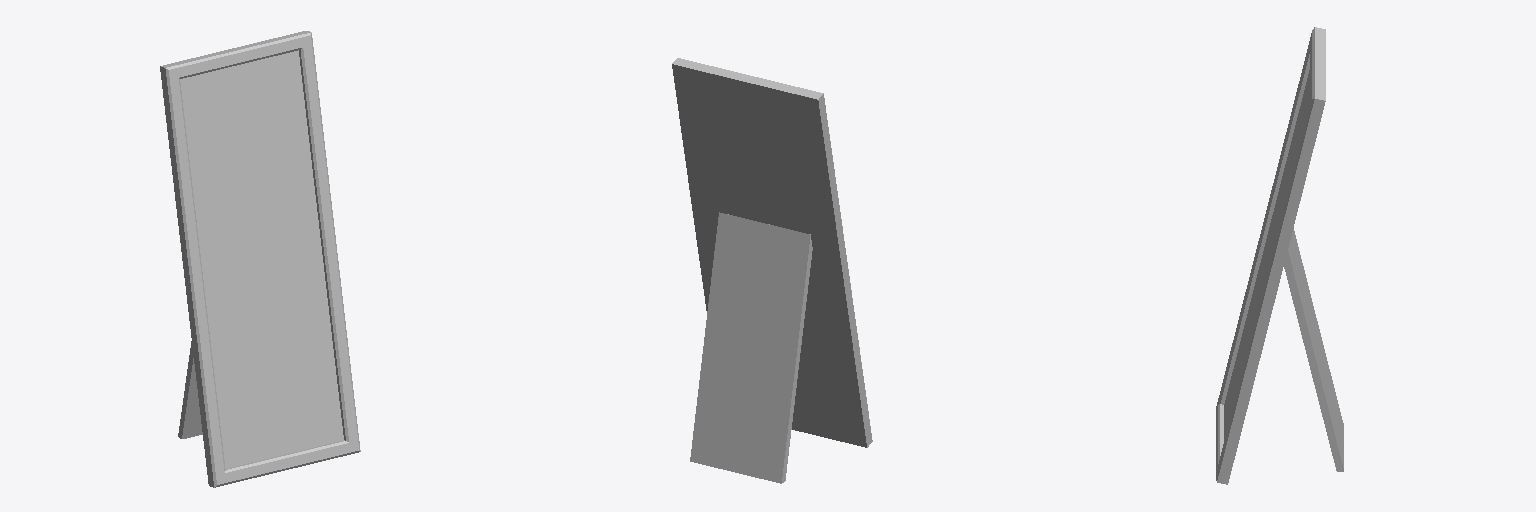
The model's file is 515 Mirror.obj.
The picture shows the model from 3 angles: view 1: azimuth 30°, elevation 25°; view 2: azimuth 150°, elevation 25°; view 3: azimuth 270°, elevation 25°; orthographic projection.
Visible parts, largest first — view 1: Mirror; view 2: Mirror; view 3: Mirror.
Boxes of the visible parts, <box> form: Mirror: <box>160,31,360,487</box>; Mirror: <box>672,58,872,483</box>; Mirror: <box>1216,27,1343,484</box>.
Bounding box in the file's own units: 25.02 × 63.09 × 19.05.